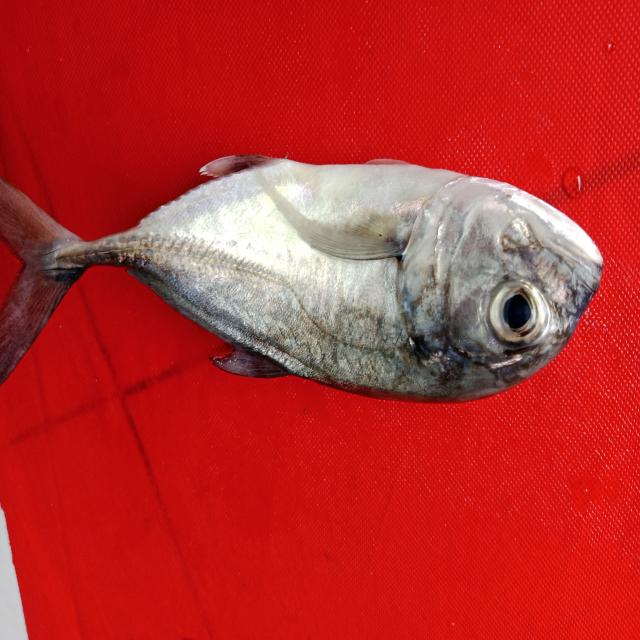ikan: (5, 94, 611, 418)
